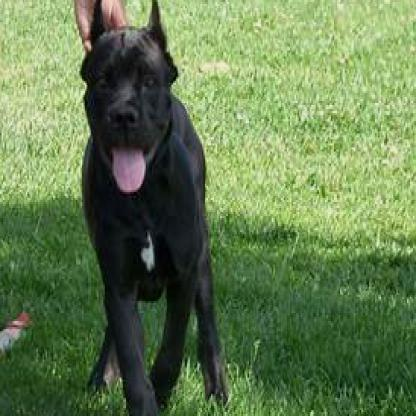dog: (80, 0, 231, 414)
